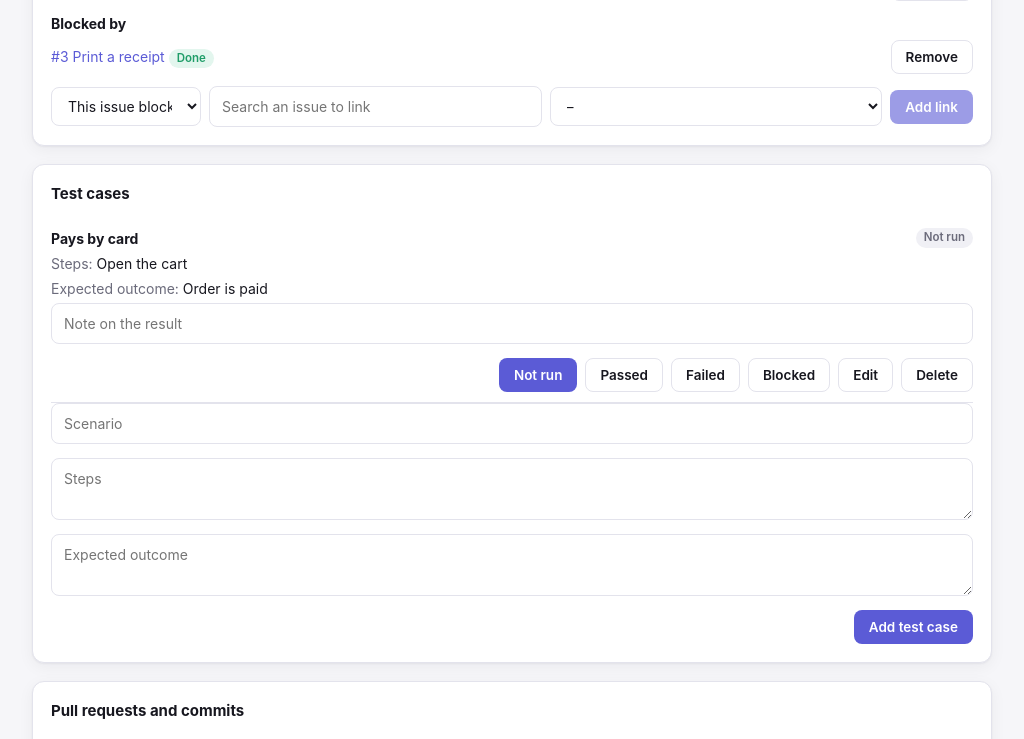
test cases › shows the refusal when a result is refused
(page scrolled)
Click the button with aria-label "Not run: Pays by card". click: (538, 374)
box: [499,358,577,392]
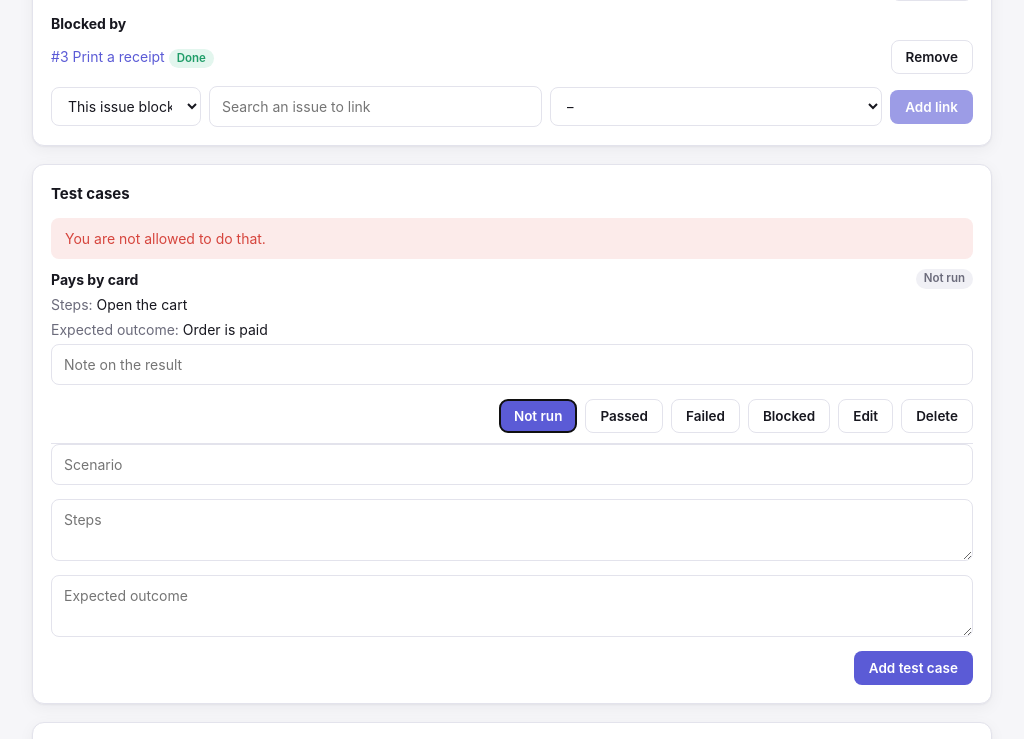
Now the text "You are not allowed to do that." is shown, box [51,218,973,258]
